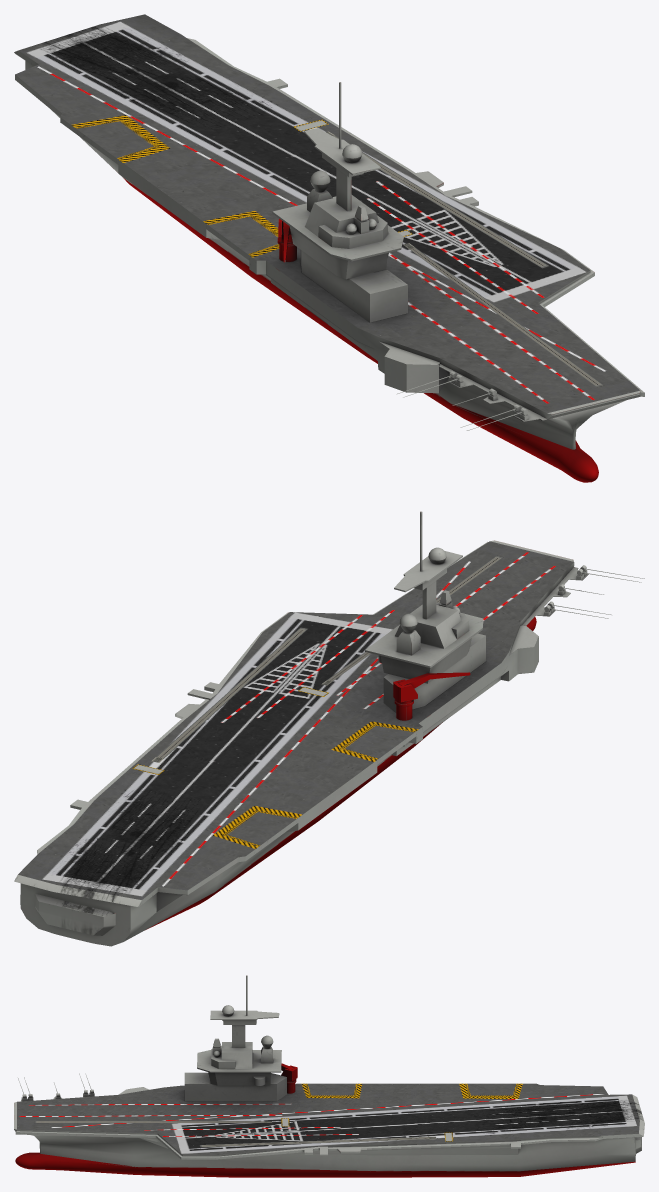
File: hangmu.glb
3 renders of one model, top to bottom at view 1: azimuth 30°, elevation 25°; view 2: azimuth 150°, elevation 25°; view 3: azimuth 270°, elevation 25°, orthographic. The views are drawn at different scales.
Parts seen in each view (by area): view 1: Charles, tower, elevator2, elevator1, aimer; view 2: Charles, tower, elevator2, elevator1, aimer; view 3: Charles, tower, elevator2, elevator1.
Part boxes in pixels (x1,y1,x2,y2): Charles: (14,14,644,482); tower: (272,82,407,322); elevator2: (74,119,158,164); elevator1: (206,215,279,260); aimer: (396,371,528,430); Charles: (14,540,588,946); tower: (365,511,485,720); elevator2: (223,810,298,851); elevator1: (340,724,416,764); aimer: (544,565,644,618); Charles: (14,1083,644,1177); tower: (184,975,297,1101); elevator2: (465,1083,518,1096); elevator1: (305,1083,357,1096).
Bounding box in the file's own units: 14.65 × 14.4 × 47.29.
Materials: 1 (1 with a texture image).
